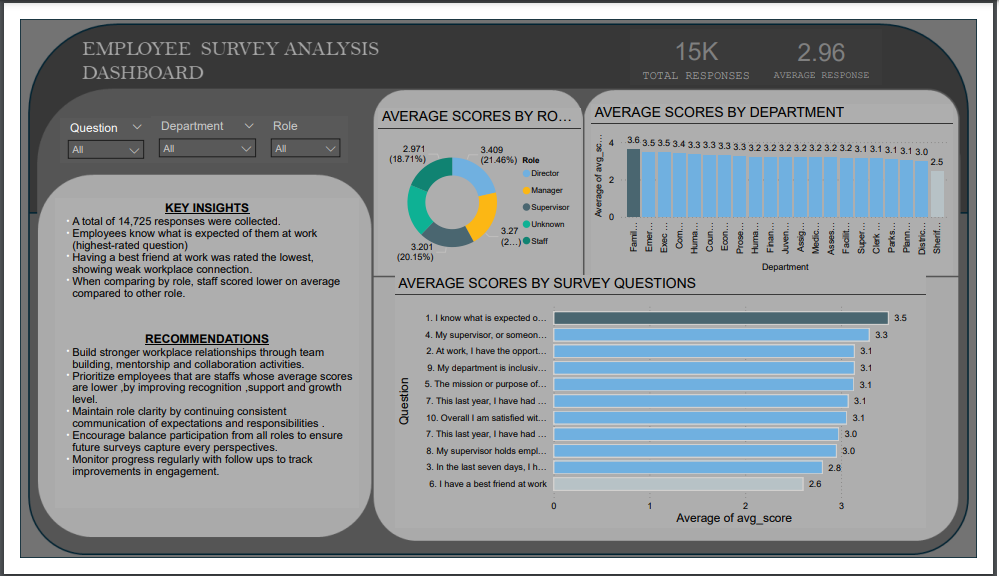

This screenshot's page, from the dashboard's own definition file:
{"tool":"powerbi","page":{"name":"Page 1","canvas":[1280,720],"ordinal":0},"visuals":[{"type":"card","fields":{"Values":["AVG RESPONSE BY ROLE.AVERAGE RESPONSE"]},"box":[993.3,11.8,160.2,74.9],"z":0},{"type":"barChart","title":"AVERAGE SCORES BY SURVEY QUESTIONS","fields":{"Category":["Q_1 questions with avg response.Question"],"Y":["Avg(Q_1 questions with avg response.avg_score)"]},"box":[501.1,342.4,711.2,338],"z":1000},{"type":"clusteredColumnChart","title":"AVERAGE SCORES BY DEPARTMENT","fields":{"Category":["Q2_DEPARTMENT.Department"],"Y":["Avg(Q2_DEPARTMENT.avg_score)"]},"box":[764.1,113.1,484.9,229.2],"z":2000},{"type":"slicer","fields":{"Values":["Q_1 questions with avg response.Question"]},"box":[52.9,130.8,122,60.2],"z":3000},{"type":"slicer","fields":{"Values":["Q2_DEPARTMENT.Department"]},"box":[174.9,129.3,149.9,61.7],"z":4000},{"type":"slicer","fields":{"Values":["AVG RESPONSE BY ROLE.Role"]},"box":[324.7,129.3,113.1,61.7],"z":5000},{"type":"textbox","box":[46,239,407,415],"z":6000},{"type":"card","fields":{"Values":["AVG RESPONSE BY ROLE.TOTAL RESPONSES"]},"box":[817,11.8,176.3,74.9],"z":7000},{"type":"donutChart","title":"AVERAGE SCORES BY ROLES","fields":{"Category":["AVG RESPONSE BY ROLE.Role"],"Y":["Avg(AVG RESPONSE BY ROLE.avg_score)"]},"box":[479,119,271,223],"z":8000}]}

Visuals, with their boxes in screenshot pixels (x1, y1, x2, y2), scaled from the page's 1280x720 canvas onto the 999x576 screenshot:
card - AVG RESPONSE BY ROLE.AVERAGE RESPONSE: box(775, 9, 900, 69)
"AVERAGE SCORES BY SURVEY QUESTIONS" barChart: box(391, 274, 946, 544)
"AVERAGE SCORES BY DEPARTMENT" clusteredColumnChart: box(596, 90, 975, 274)
slicer - Q_1 questions with avg response.Question: box(41, 105, 137, 153)
slicer - Q2_DEPARTMENT.Department: box(137, 103, 253, 153)
slicer - AVG RESPONSE BY ROLE.Role: box(253, 103, 342, 153)
textbox: box(36, 191, 354, 523)
card - AVG RESPONSE BY ROLE.TOTAL RESPONSES: box(638, 9, 775, 69)
"AVERAGE SCORES BY ROLES" donutChart: box(374, 95, 585, 274)
